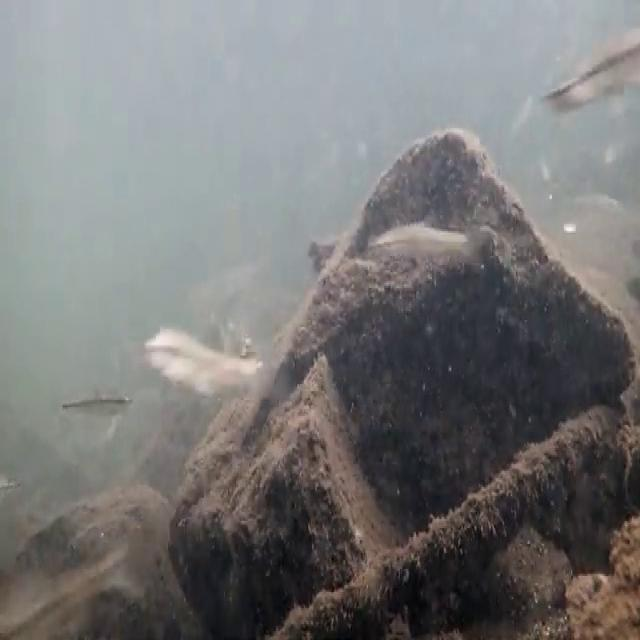Cakil Baligi: (61, 380, 132, 429)
